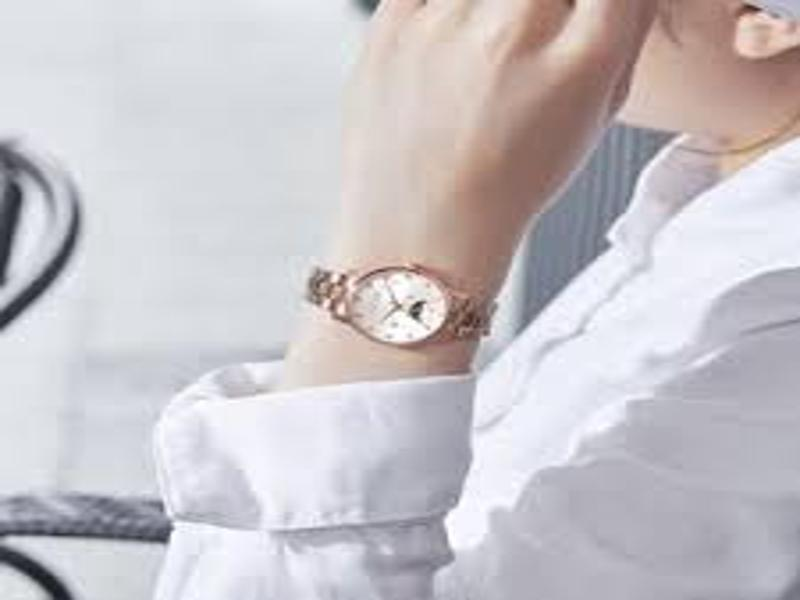watch: (302, 259, 499, 348)
